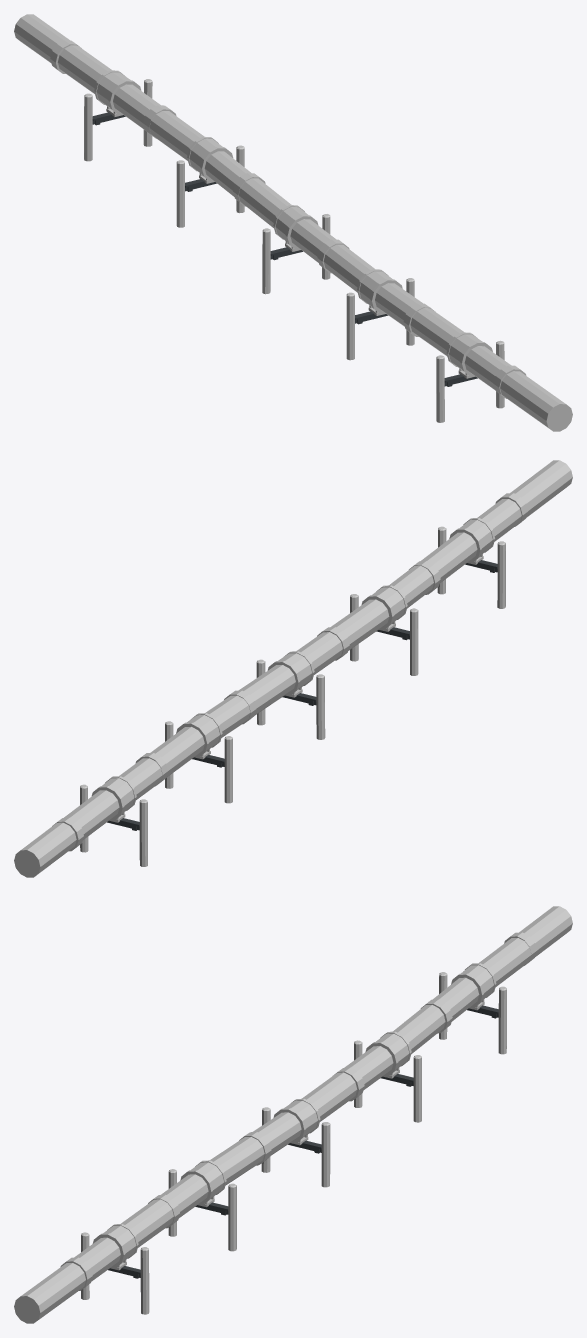
File: SM_Prop_Pipeline_Pipe_Large_Section_01.fbx
3 renders of one model, top to bottom at view 1: azimuth 30°, elevation 25°; view 2: azimuth 150°, elevation 25°; view 3: azimuth 330°, elevation 25°, orthographic.
Parts seen in each view (by area): view 1: SM_Prop_Pipeline_Pipe_Large_Section_01; view 2: SM_Prop_Pipeline_Pipe_Large_Section_01; view 3: SM_Prop_Pipeline_Pipe_Large_Section_01.
Boxes of the visible parts, x1=… form: SM_Prop_Pipeline_Pipe_Large_Section_01: x1=14, y1=14, x2=572, y2=431; SM_Prop_Pipeline_Pipe_Large_Section_01: x1=14, y1=460, x2=572, y2=877; SM_Prop_Pipeline_Pipe_Large_Section_01: x1=14, y1=906, x2=572, y2=1323.
Bounding box in the file's own units: 488 × 494 × 6000.
